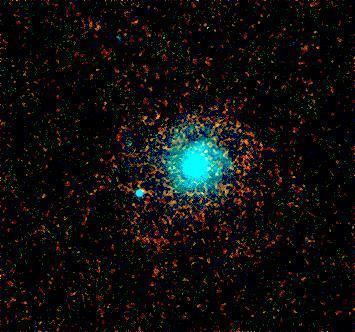star: (187, 180, 217, 210)
